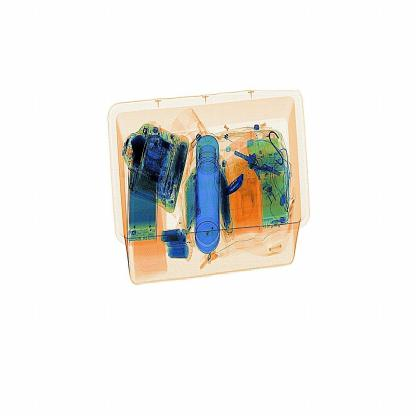knife: (225, 170, 250, 199)
